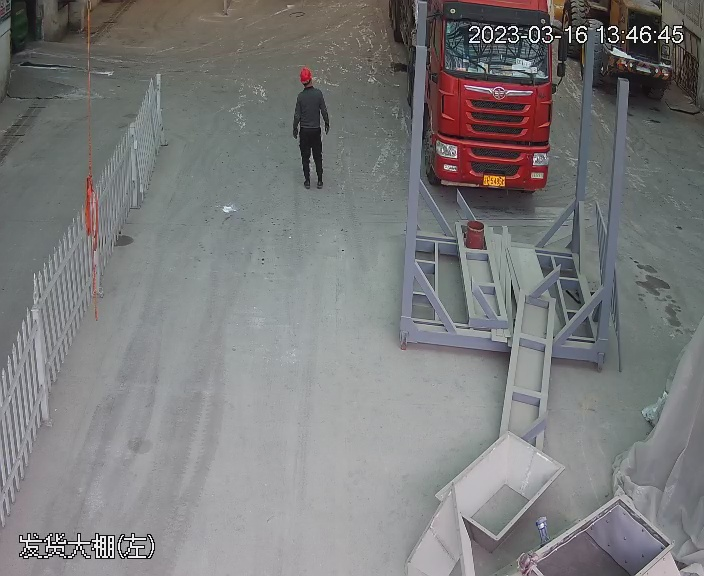head: (295, 67, 326, 103)
helmet: (299, 67, 314, 82)
people: (291, 66, 332, 190)
truck: (405, 1, 562, 194)
